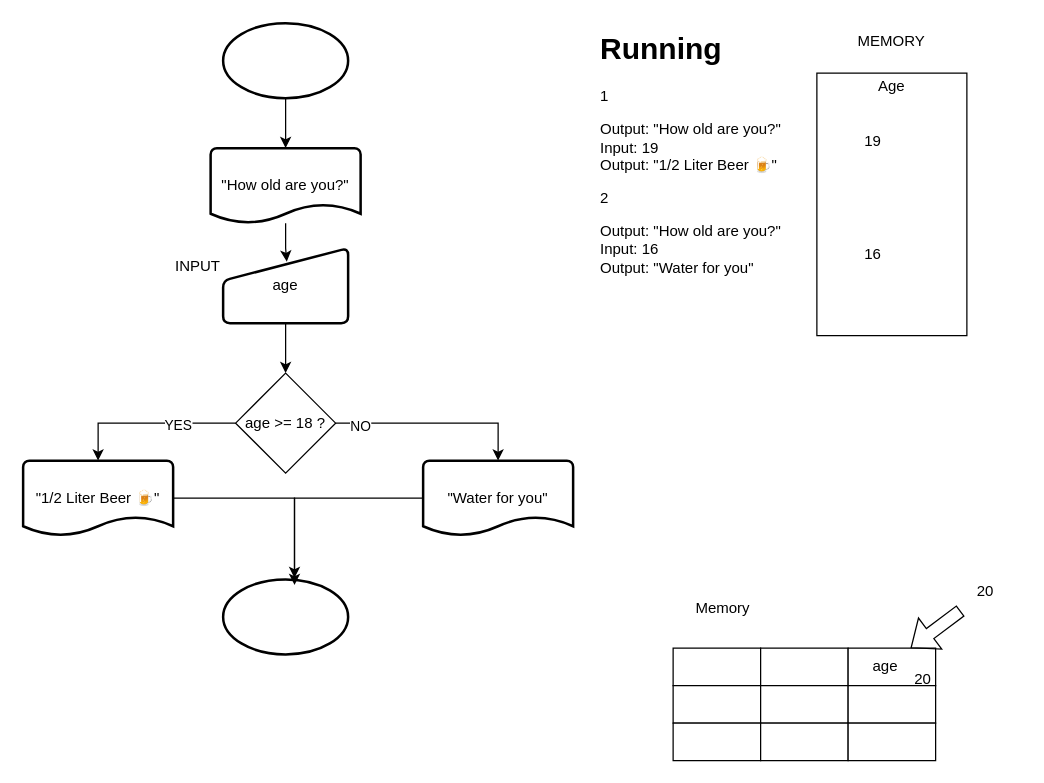
Image size: 1044x783. Some labels were removed from this diagram. The box of each missing label's shape, as (x1, y1, x2, y2) in pixels:
START: (221, 21, 349, 99)
STOP: (221, 578, 349, 655)
